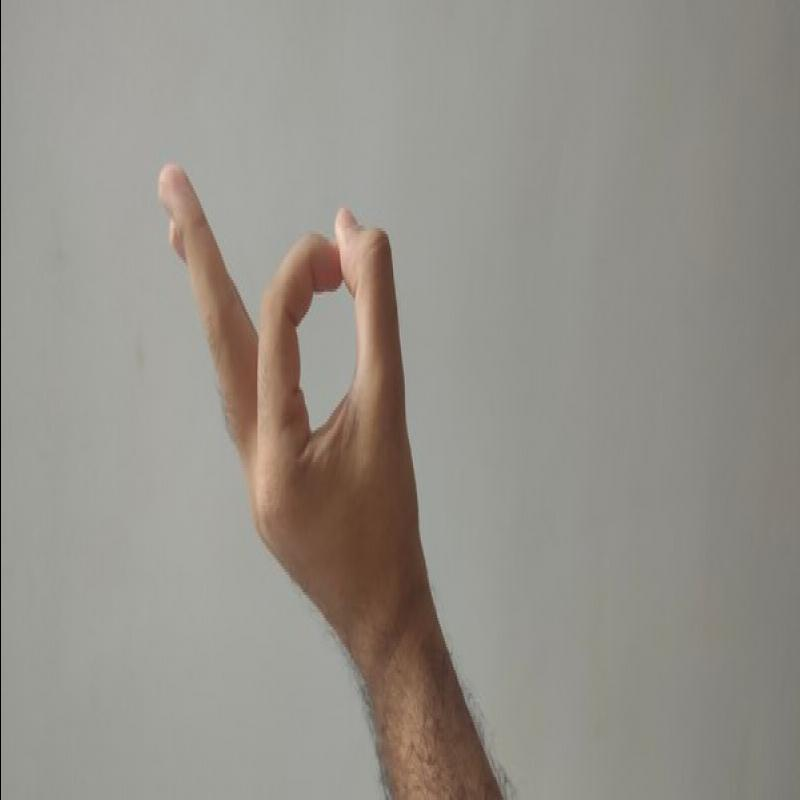Mudraakhyam: (142, 154, 436, 594)
